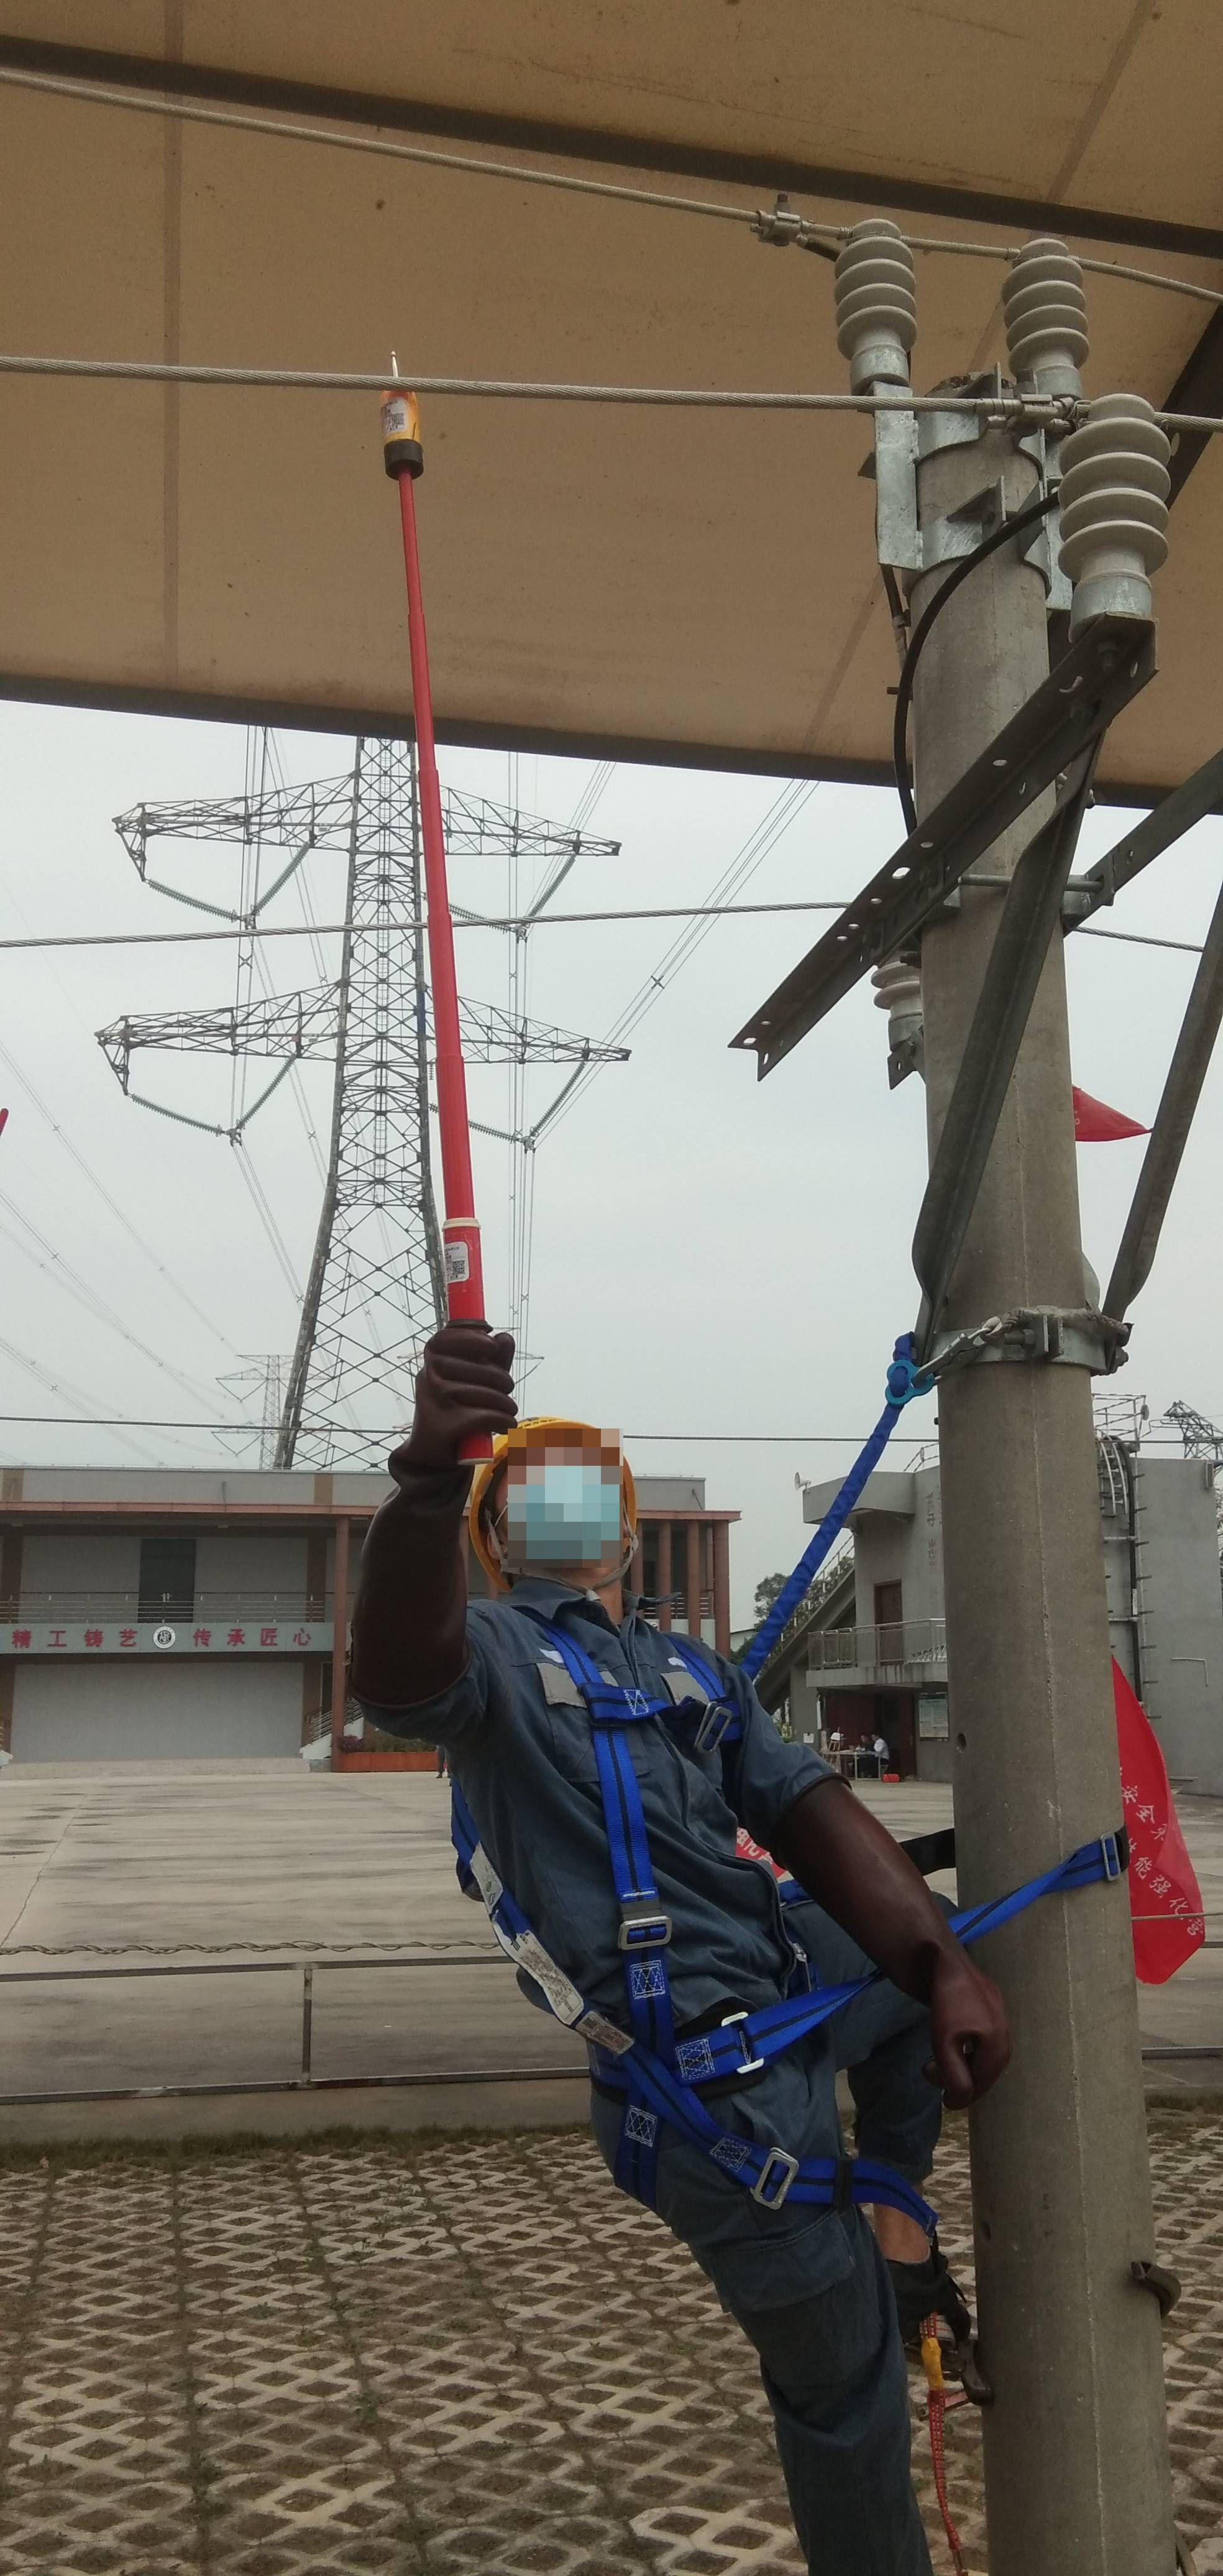downsuit: (599, 2044, 939, 2576)
upsuit: (466, 1603, 804, 2031)
